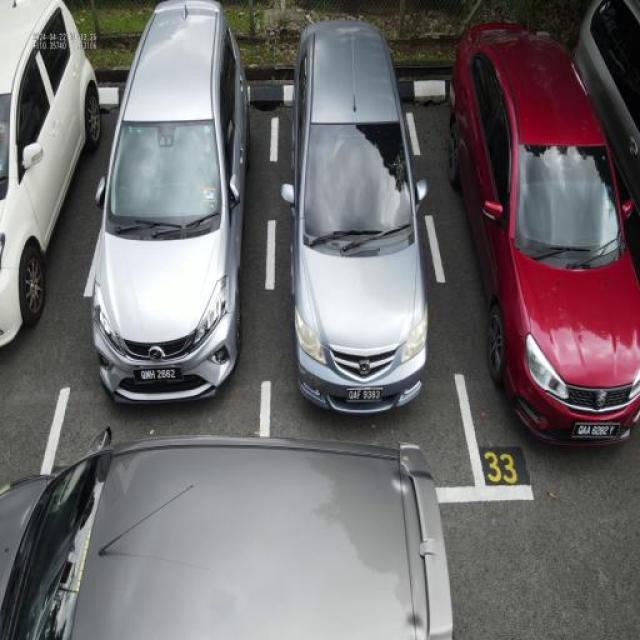Legalparking: (0, 0, 640, 504)
illegalparking: (5, 398, 635, 640)
